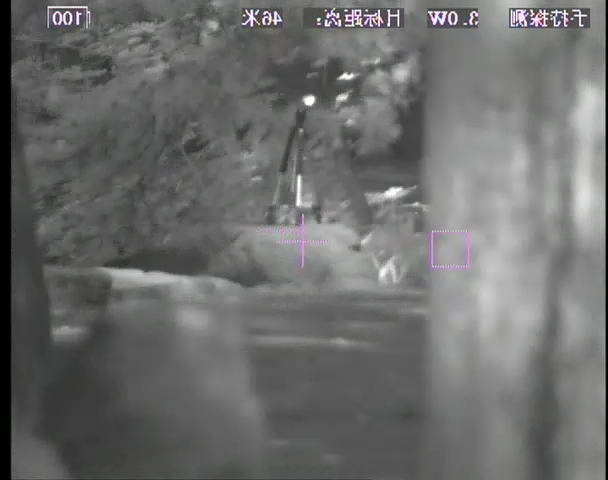my: (301, 94, 315, 107)
